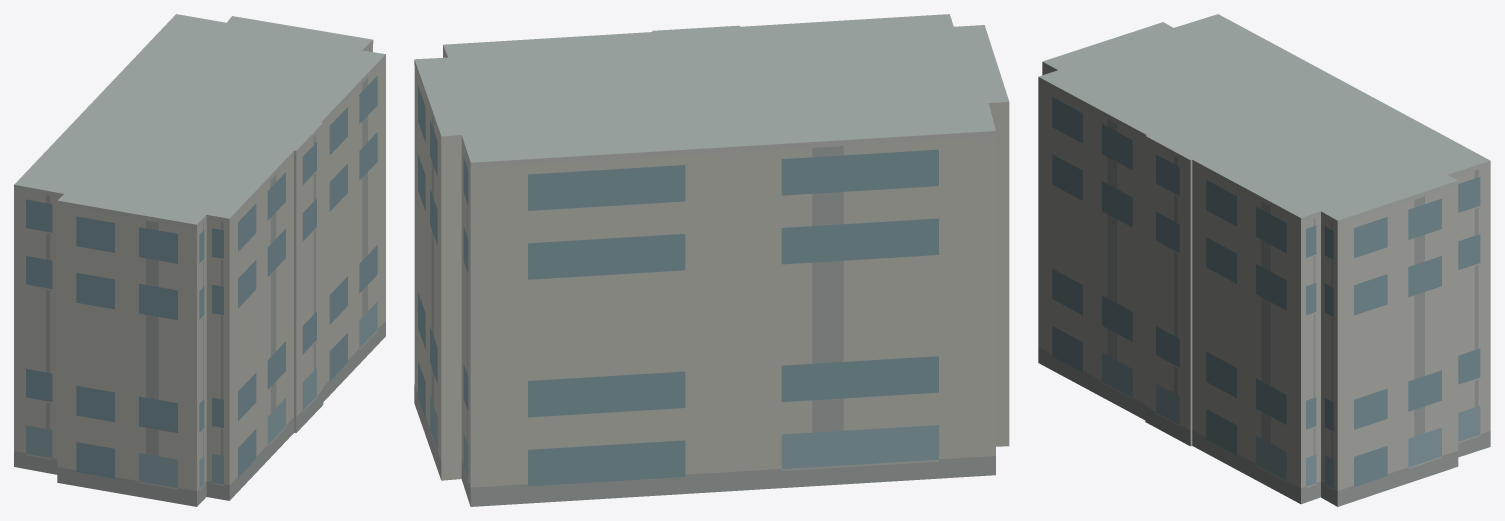
Rendered from survey-upis-32762073.glb.
The picture shows the model from 3 angles, left to right: view 1: azimuth 30°, elevation 25°; view 2: azimuth 150°, elevation 25°; view 3: azimuth 270°, elevation 25°; orthographic projection. The views are drawn at different scales.
Visible parts, largest first — view 1: survey-upis-32762073.tmp; view 2: survey-upis-32762073.tmp; view 3: survey-upis-32762073.tmp.
Boxes of the visible parts, x1=… form: survey-upis-32762073.tmp: x1=14, y1=14, x2=385, y2=506; survey-upis-32762073.tmp: x1=414, y1=14, x2=1009, y2=506; survey-upis-32762073.tmp: x1=1038, y1=14, x2=1490, y2=506.
Size of the model in its own units: 22.48 by 14.5 by 20.79.
